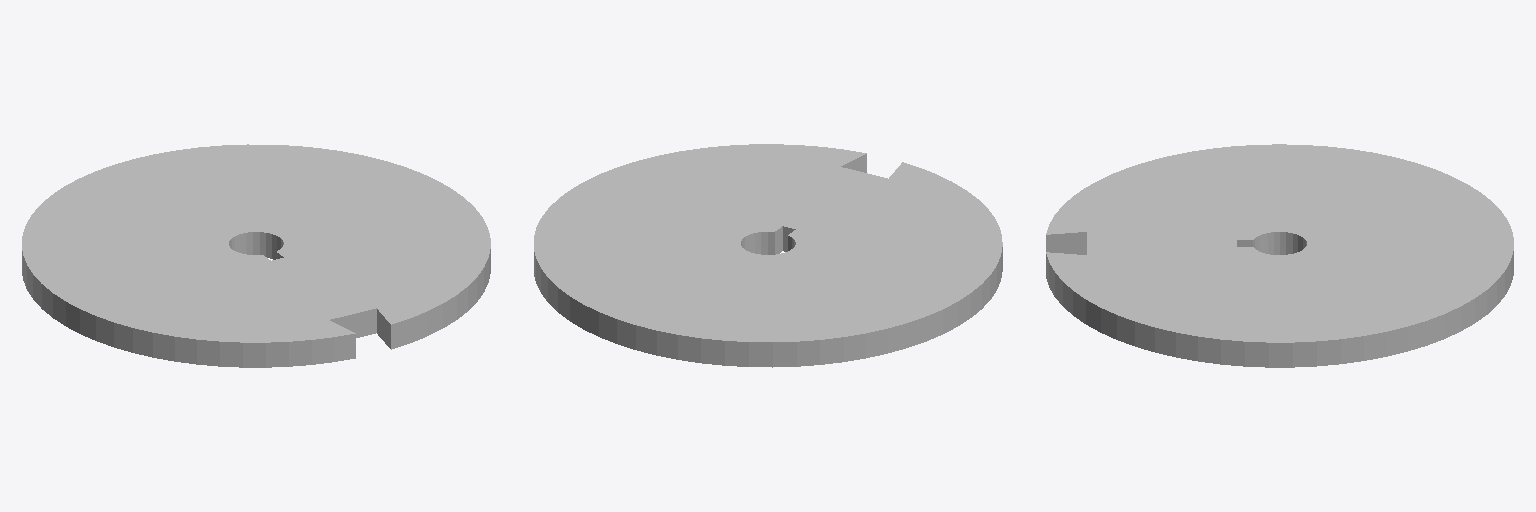
Rendered from wheel3.obj.
3 renders of one model, left to right at view 1: azimuth 30°, elevation 25°; view 2: azimuth 150°, elevation 25°; view 3: azimuth 270°, elevation 25°, orthographic.
Bounding box in the file's own units: 33.98 × 2 × 33.93.